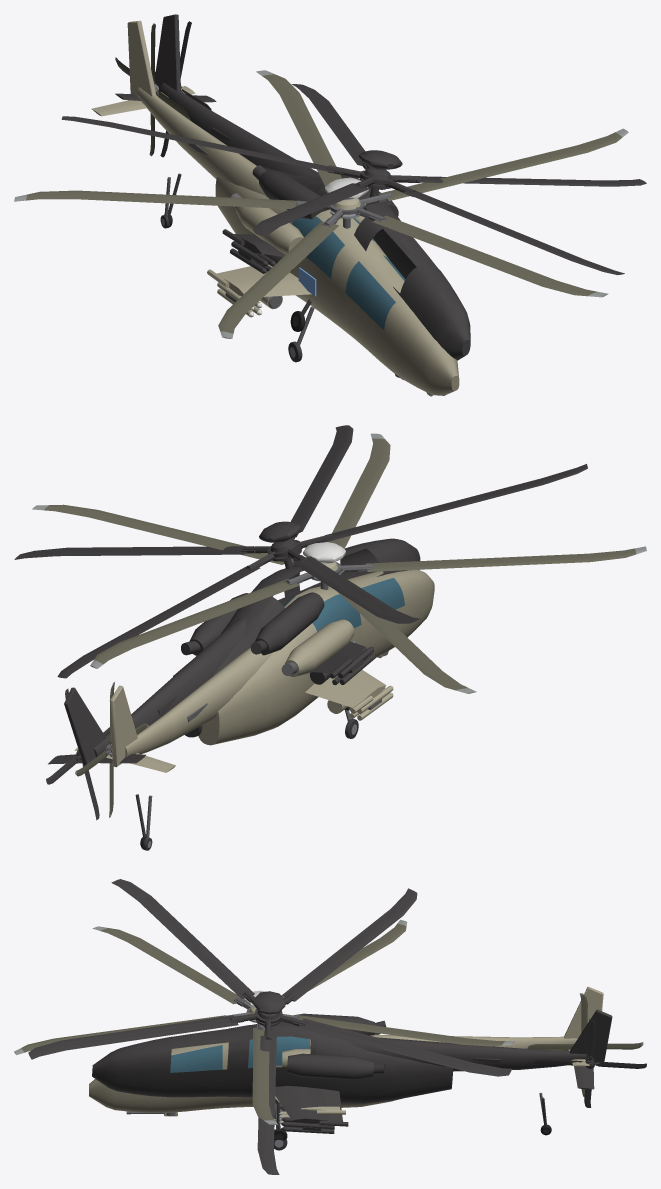
File: gunship__mi_28ne.glb
3 views of the same model, one above another, from view 1: azimuth 30°, elevation 25°; view 2: azimuth 150°, elevation 25°; view 3: azimuth 270°, elevation 25° (orthographic). The views are drawn at different scales.
Visible parts, largest first — view 1: Wreck, Fuselage_Mesh, Rotor_Main_Mesh, Stub_Wings_Stores_Mesh, Engines_Mesh, Rotor_Tail_Mesh, Landing_Gear_Mesh; view 2: Wreck, Fuselage_Mesh, Rotor_Main_Mesh, Stub_Wings_Stores_Mesh, Engines_Mesh, Rotor_Tail_Mesh, Rotor_Mast_Mesh; view 3: Wreck, Fuselage_Mesh, Rotor_Main_Mesh, Rotor_Tail_Mesh.
Boxes of the visible parts, x1,y1,x2,y2 form: Wreck: [61, 14, 646, 360]; Fuselage_Mesh: [91, 20, 459, 395]; Rotor_Main_Mesh: [14, 70, 628, 338]; Stub_Wings_Stores_Mesh: [207, 264, 311, 317]; Engines_Mesh: [230, 193, 374, 254]; Rotor_Tail_Mesh: [115, 23, 189, 156]; Landing_Gear_Mesh: [160, 177, 314, 362]; Wreck: [14, 425, 587, 848]; Fuselage_Mesh: [74, 569, 434, 772]; Rotor_Main_Mesh: [32, 433, 646, 693]; Stub_Wings_Stores_Mesh: [305, 670, 393, 720]; Engines_Mesh: [281, 619, 354, 676]; Rotor_Tail_Mesh: [75, 682, 148, 817]; Rotor_Mast_Mesh: [303, 542, 345, 589]; Wreck: [28, 879, 646, 1174]; Fuselage_Mesh: [89, 986, 603, 1112]; Rotor_Main_Mesh: [14, 919, 514, 1124]; Rotor_Tail_Mesh: [526, 993, 643, 1097].
Size of what is drawn, in the model's own units: 16.42 by 6.75 by 20.76.
